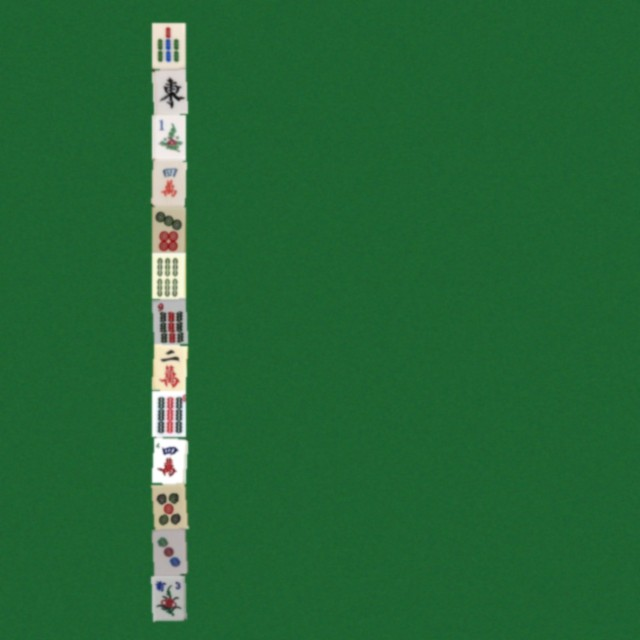tile: (151, 22, 185, 68), (151, 68, 185, 114), (151, 114, 185, 160), (151, 160, 185, 206), (151, 206, 185, 252), (151, 252, 185, 298), (151, 298, 185, 344), (151, 344, 185, 390), (151, 390, 185, 436), (151, 436, 185, 482), (151, 482, 185, 528), (151, 528, 185, 574), (151, 574, 185, 620)
